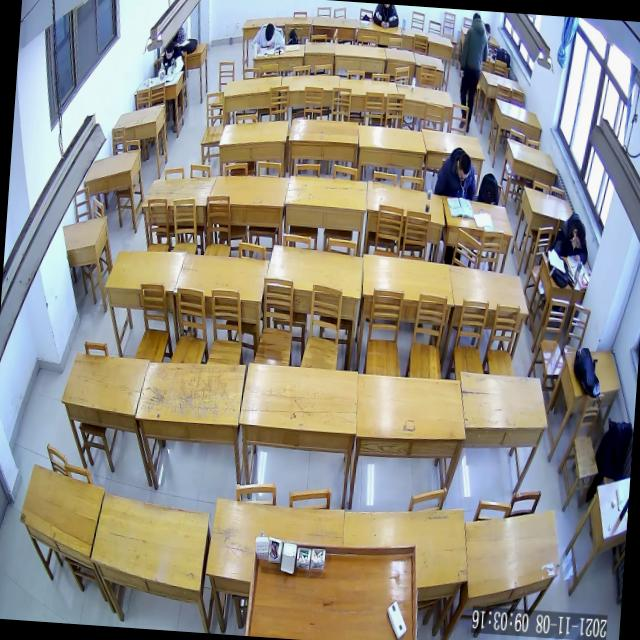bow: (552, 210, 590, 265), (251, 22, 285, 54)
down: (570, 220, 587, 250), (456, 152, 472, 180), (264, 22, 274, 42), (164, 40, 174, 59)
sit: (454, 10, 490, 133), (433, 145, 477, 200), (158, 39, 186, 80)
